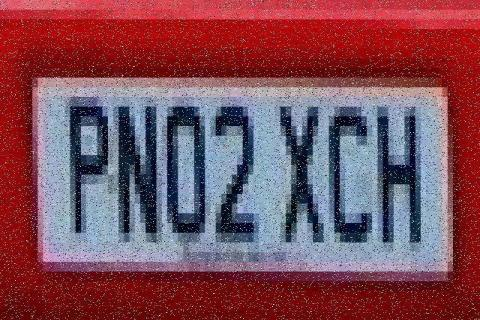LicensePlate: (29, 59, 456, 277)
